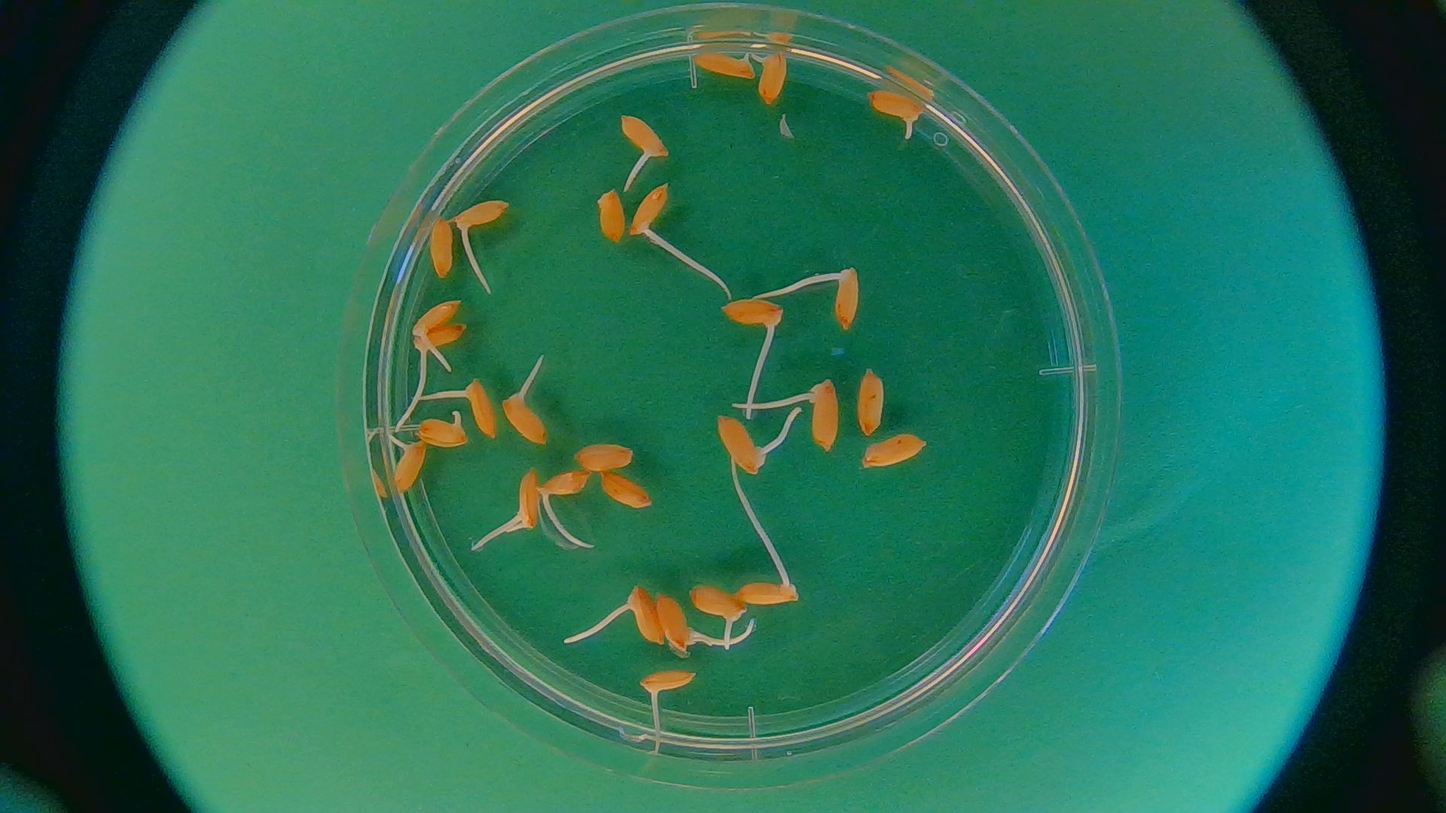no: (860, 432, 926, 467), (601, 473, 651, 510), (857, 368, 884, 436), (693, 51, 755, 79), (596, 189, 623, 245), (574, 443, 633, 468), (429, 217, 453, 277)
yes: (868, 88, 931, 145), (718, 416, 766, 475), (803, 379, 841, 452), (500, 394, 550, 449), (620, 112, 669, 163), (625, 583, 667, 640), (732, 572, 798, 607), (629, 184, 669, 239), (385, 439, 425, 493), (412, 298, 463, 339), (461, 378, 496, 436), (829, 268, 862, 329), (415, 411, 470, 446), (659, 595, 694, 650), (454, 200, 512, 233), (725, 297, 783, 330), (685, 583, 741, 617), (751, 51, 785, 105), (538, 471, 590, 501), (639, 671, 692, 699), (414, 322, 463, 352), (514, 468, 538, 526)
